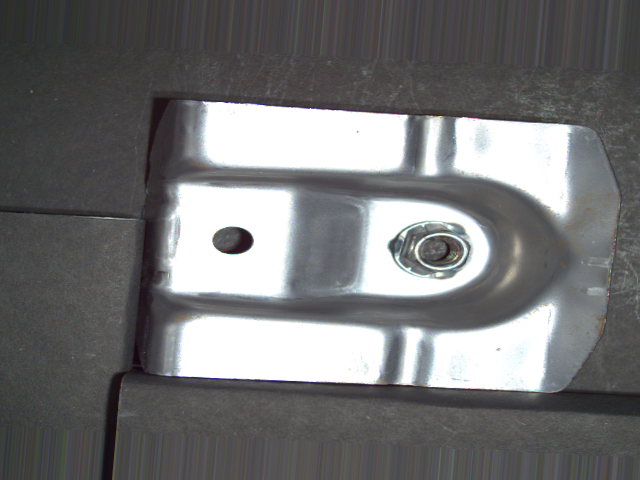good: (383, 217, 476, 281)
